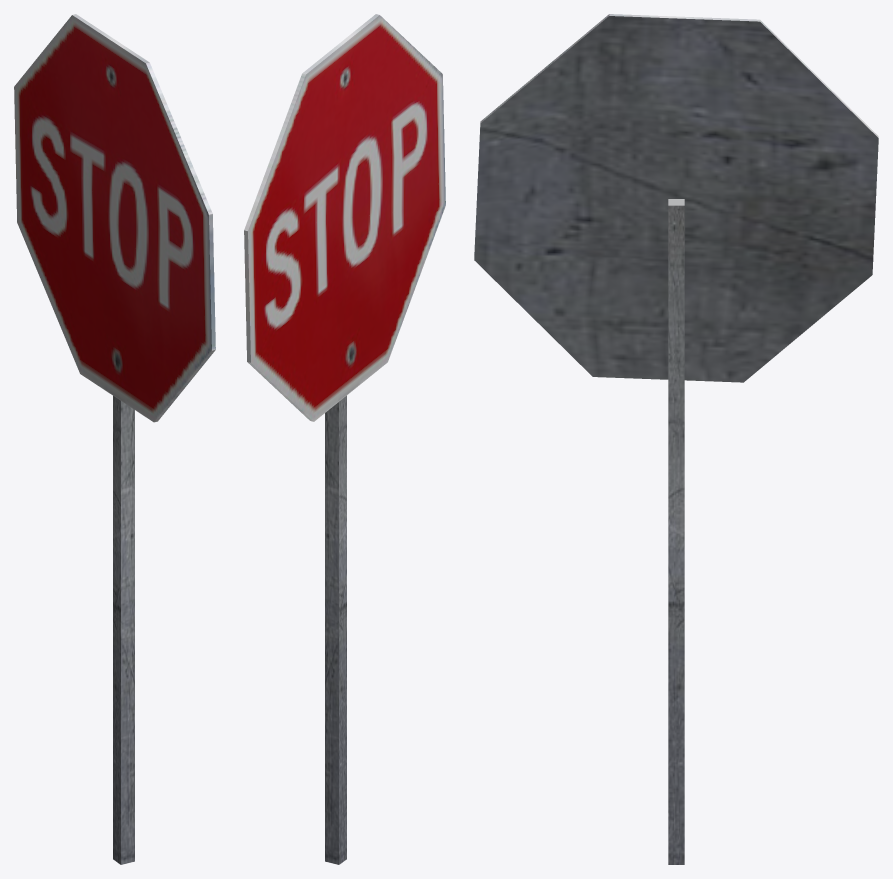
File: sign-stop.fbx
The picture shows the model from 3 angles, left to right: view 1: azimuth 30°, elevation 25°; view 2: azimuth 150°, elevation 25°; view 3: azimuth 270°, elevation 25°; orthographic projection. The views are drawn at different scales.
Parts seen in each view (by area): view 1: Plane.057; view 2: Plane.057; view 3: Plane.057.
Part boxes in pixels (<box>): Plane.057: <box>14,14,215,864</box>; Plane.057: <box>244,14,445,864</box>; Plane.057: <box>474,14,878,864</box>.
Size of the model in its own units: 8.77 by 385 by 168.
